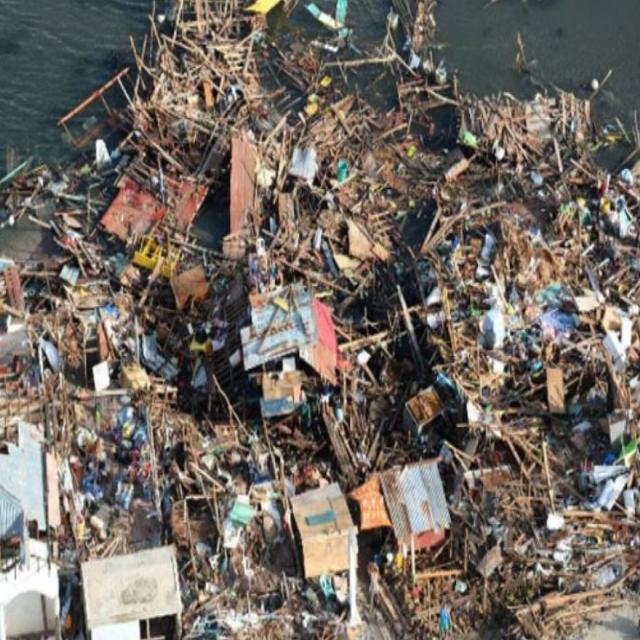collapsed_building: (0, 107, 639, 517)
